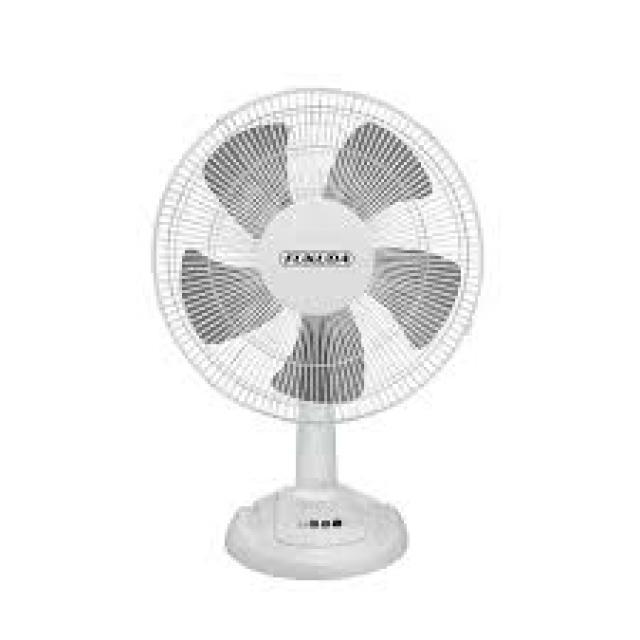fan: (119, 54, 517, 604)
